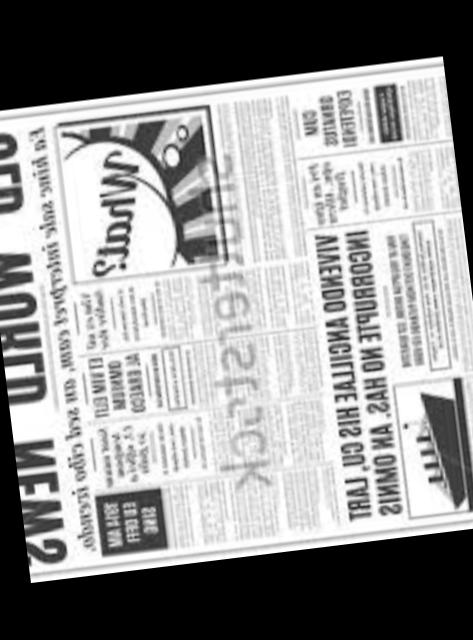cardboard paper: (0, 62, 473, 577)
